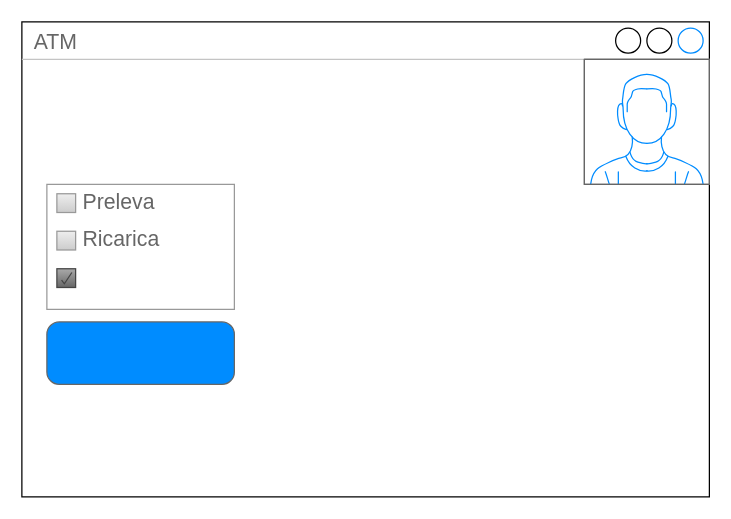
Image size: 731x519. Some labels were removed from this diagram. The shapes that lost their labels are listed below. From the top down, each one's centre as x and y in pixels, then its label:
At pixel 66 278: "Visualizza".
At pixel 140 352: "Conferma".
